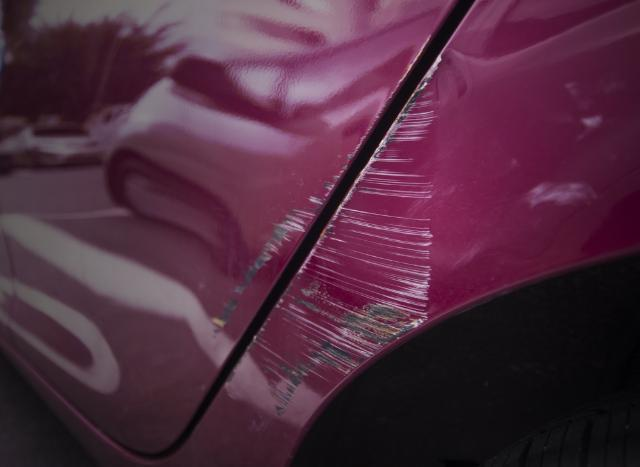scratch: (248, 57, 438, 422), (209, 113, 381, 347)
